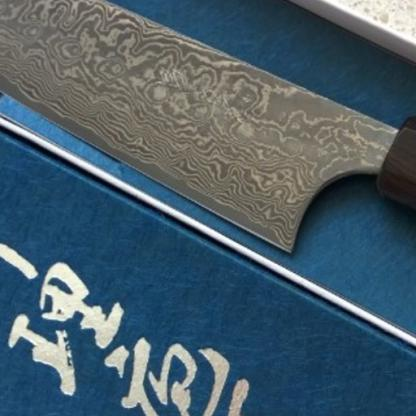knife: (0, 0, 415, 315)
